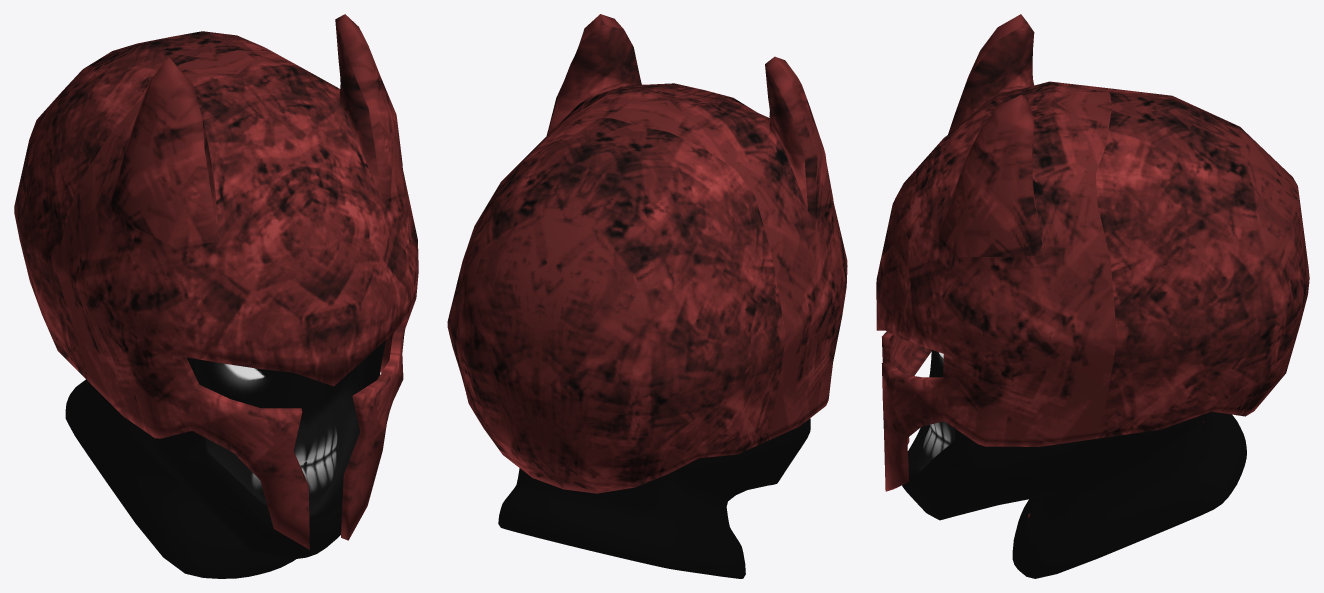
The model's file is helmet2MOCK.glb.
3 renders of one model, left to right at view 1: azimuth 30°, elevation 25°; view 2: azimuth 150°, elevation 25°; view 3: azimuth 270°, elevation 25°, orthographic. The views are drawn at different scales.
Visible parts, largest first — view 1: 0.001, 1.001; view 2: 0.001, 1.001; view 3: 0.001, 1.001.
Part boxes in pixels (x1=…): 0.001: x1=14, y1=14, x2=418, y2=549; 1.001: x1=65, y1=340, x2=385, y2=578; 0.001: x1=447, y1=14, x2=847, y2=493; 1.001: x1=498, y1=418, x2=810, y2=578; 0.001: x1=876, y1=14, x2=1309, y2=491; 1.001: x1=902, y1=350, x2=1246, y2=578.
Size of the model in its own units: 1.15 by 1.91 by 1.49.
2 materials, 2 textured.
